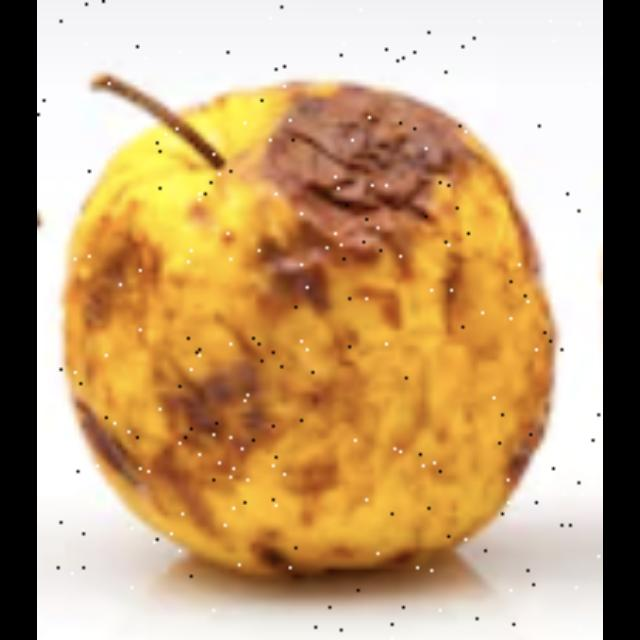Apel Tidak Segar: (70, 92, 560, 572)
